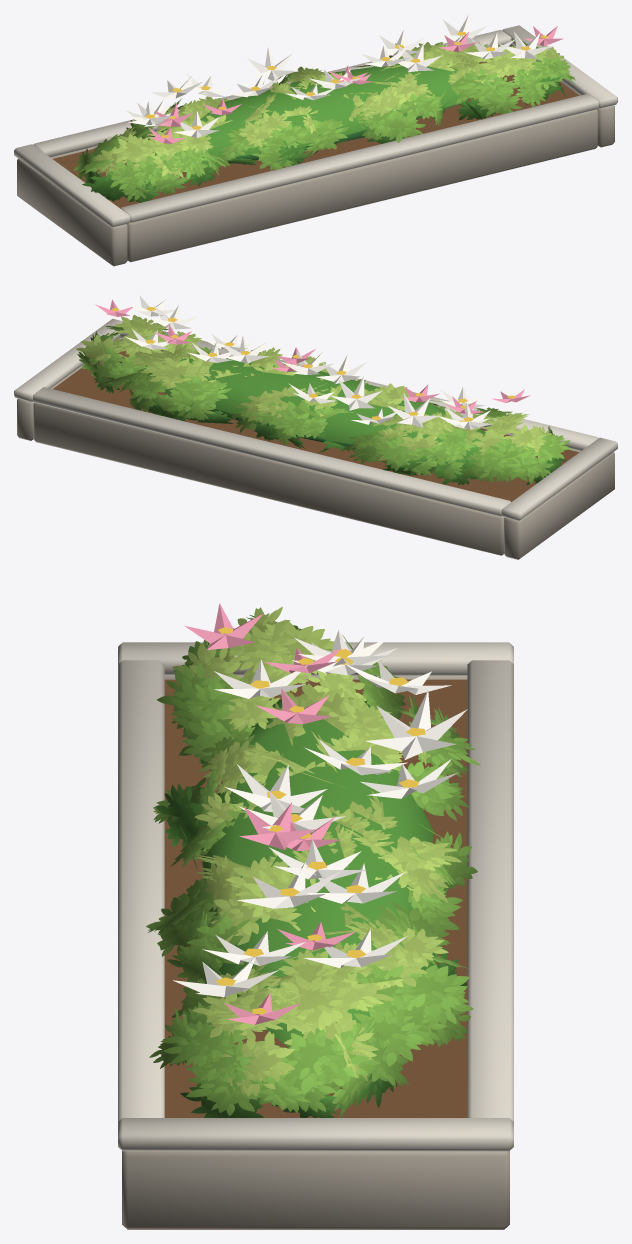
The model's file is flowerbed.glb.
The picture shows the model from 3 angles, top to bottom: view 1: azimuth 30°, elevation 25°; view 2: azimuth 150°, elevation 25°; view 3: azimuth 270°, elevation 25°; orthographic projection. The views are drawn at different scales.
Visible parts, largest first — view 1: body; view 2: body; view 3: body.
Boxes of the visible parts, x1=… form: body: x1=14, y1=15, x2=617, y2=266; body: x1=14, y1=295, x2=617, y2=559; body: x1=118, y1=603, x2=513, y2=1229.
Size of the model in its own units: 3.04 by 0.6002 by 1.02.
2 materials, 1 textured.
